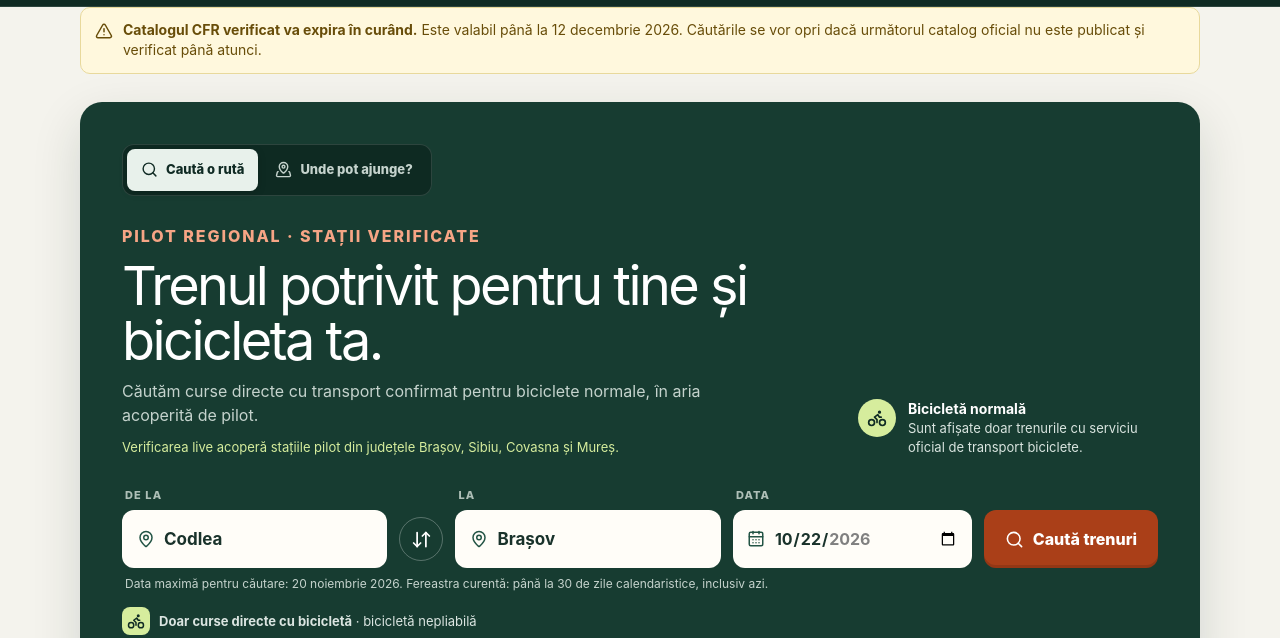
Test: BikeTrain app › shows source-backed bicycle fares on destination journeys and leaves unsupported amounts unknown
Click the tab "Unde pot ajunge?". click: (344, 170)
box: [261, 149, 427, 191]
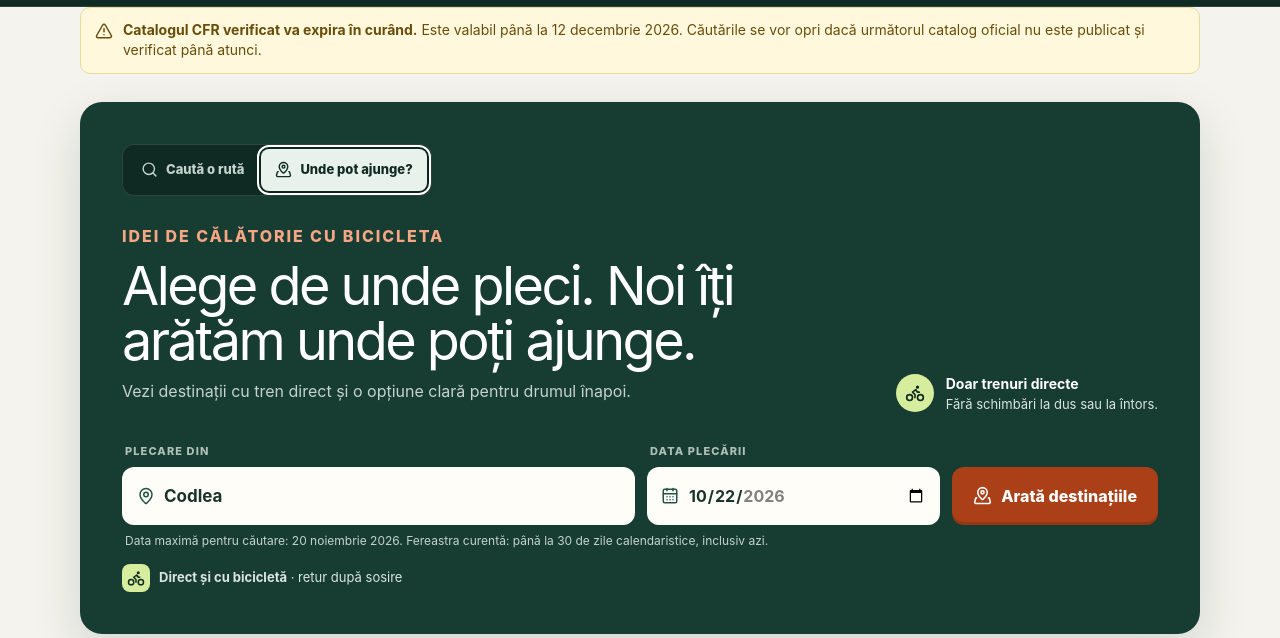
Click the button "Arată destinațiile". click: (1055, 496)
box: [952, 467, 1158, 525]
(page scrolled)
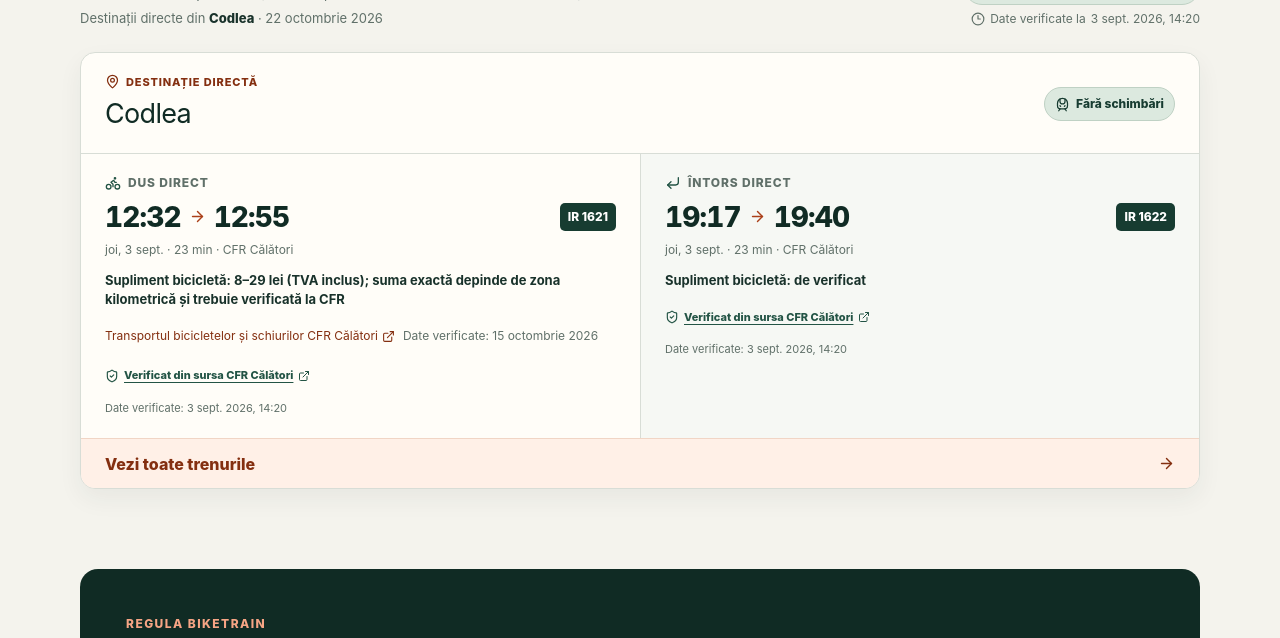
Expected: the text "Supliment bicicletă: 8–29 lei (TVA inclus); suma exactă depinde de zona kilometrică și trebuie verificată la CFR" is shown, [105, 272, 560, 307]
Expected: the text "Supliment bicicletă: de verificat" is shown, [665, 272, 866, 288]
Expected: the text "Date verificate: 15 octombrie 2026" is shown, [403, 328, 598, 345]
